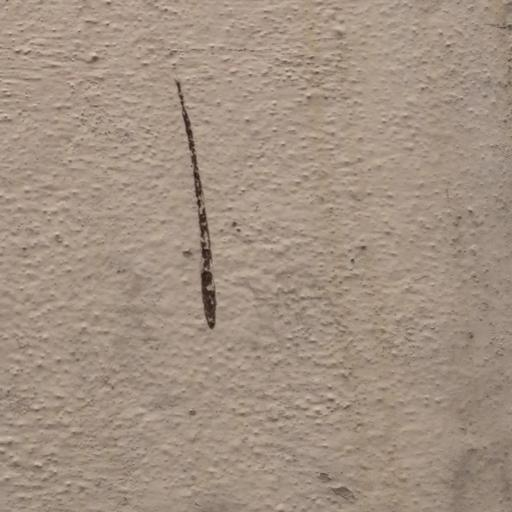stain: (158, 81, 249, 326)
